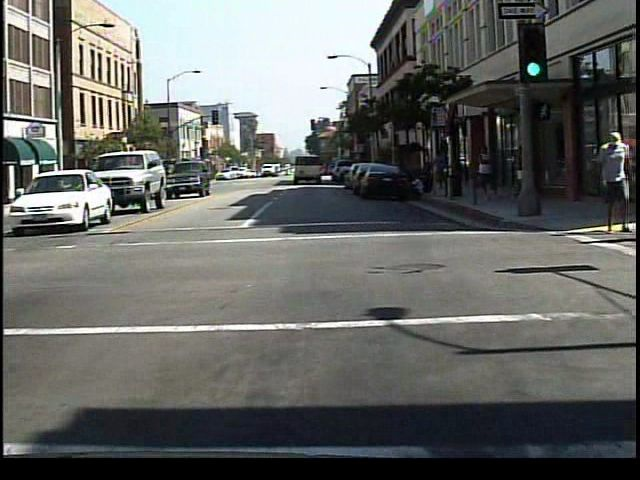person: (474, 141, 506, 206)
